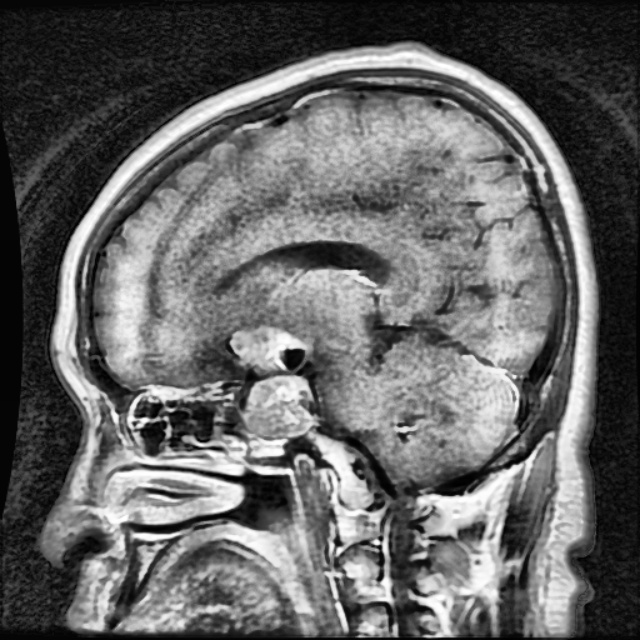Pituitary: (230, 329, 312, 442)
